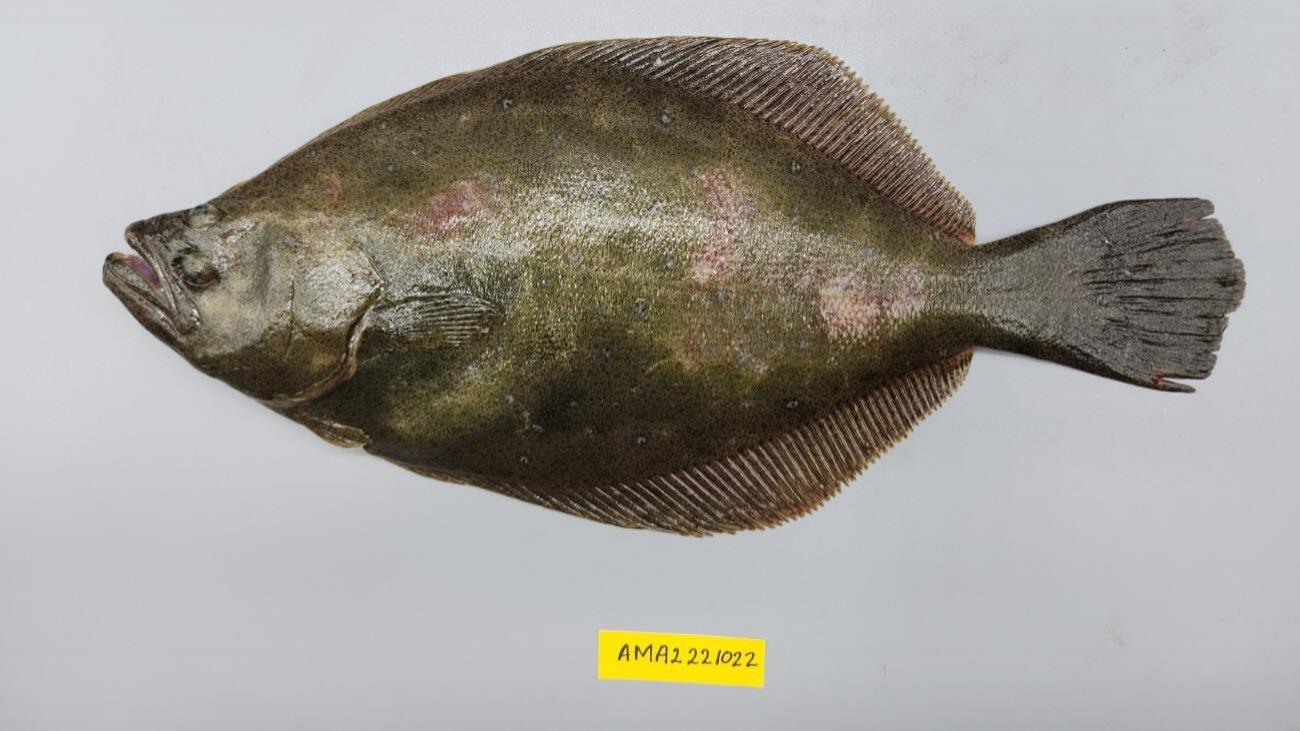MAFAH: (618, 347, 971, 537)
MAOUY: (103, 35, 1248, 540)
